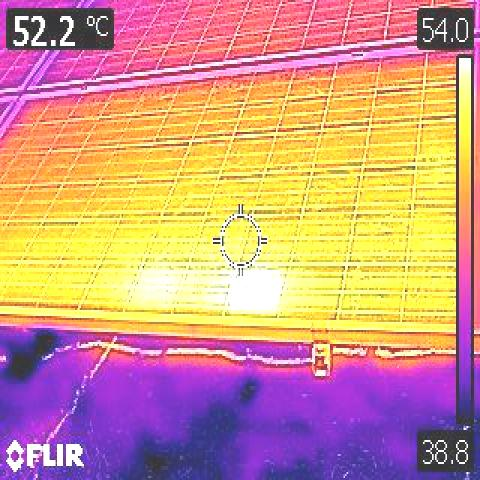fault: (231, 270, 281, 314)
